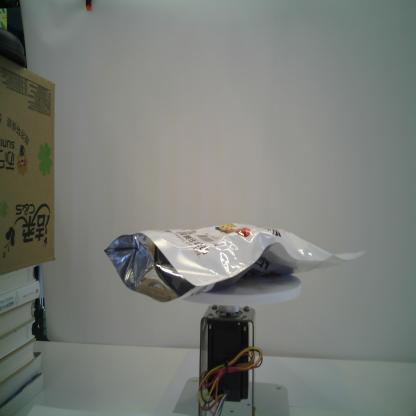Dried Food: (104, 222, 367, 303)
